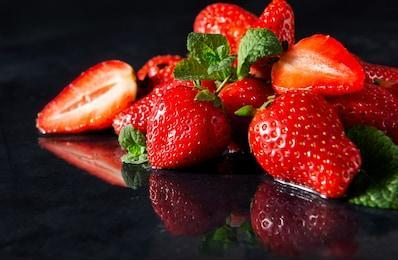Fresa: (243, 87, 370, 205), (141, 81, 235, 179)
